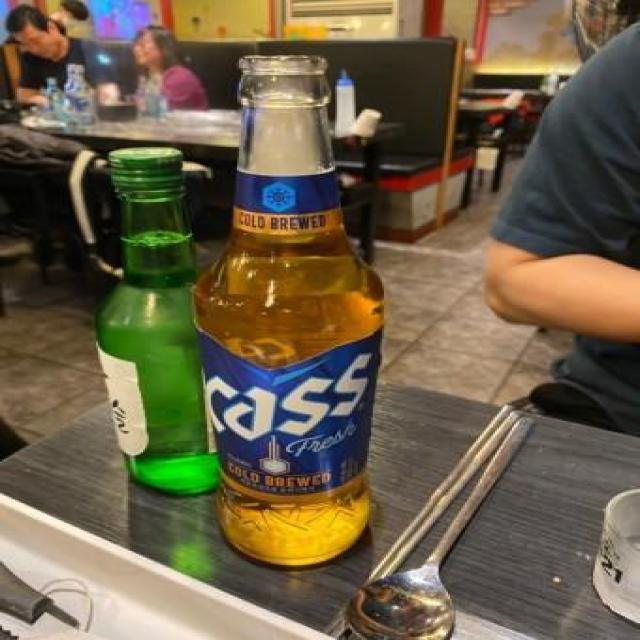beer-bottle: (172, 50, 406, 573)
soju-bottle: (90, 142, 238, 498)
